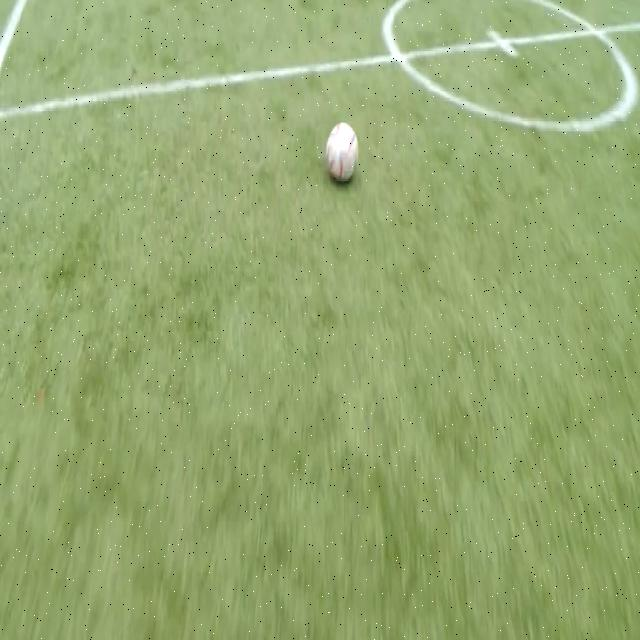ball: (326, 123, 358, 181)
